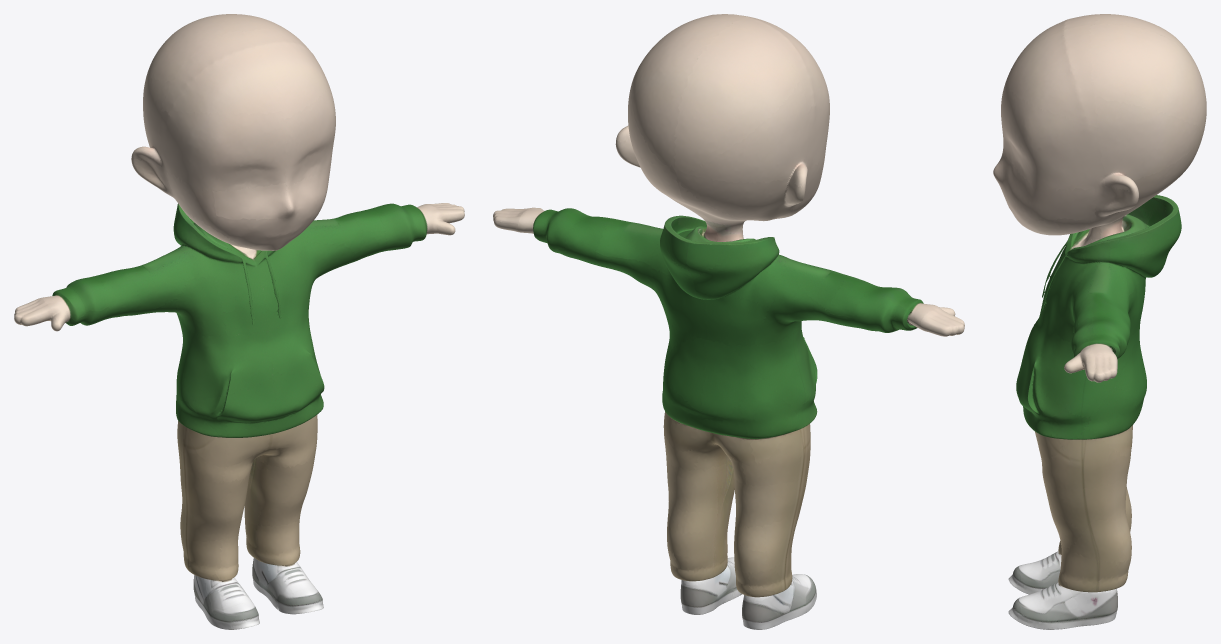
File: baked_noutfit_hoodie.glb
3 renders of one model, left to right at view 1: azimuth 30°, elevation 25°; view 2: azimuth 150°, elevation 25°; view 3: azimuth 270°, elevation 25°, orthographic. The views are drawn at different scales.
Bounding box in the file's own units: 1.57 × 1.9 × 0.6347.
Materials: 1 (1 with a texture image).
